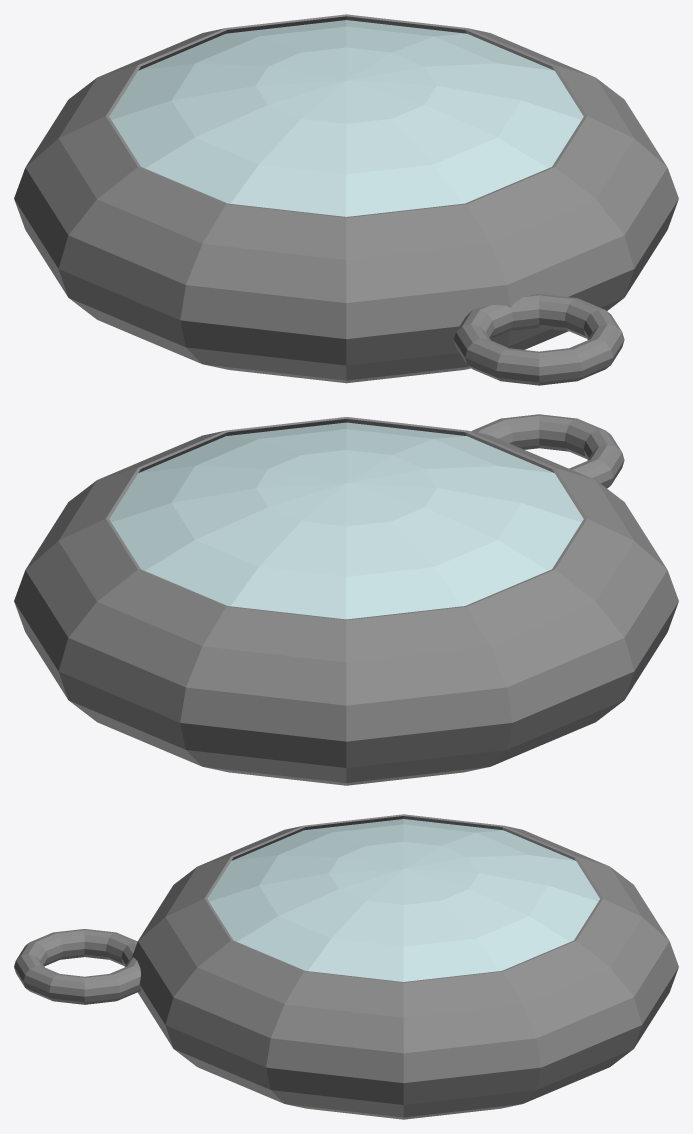
The model's file is Kompas.fbx.
3 renders of one model, top to bottom at view 1: azimuth 30°, elevation 25°; view 2: azimuth 150°, elevation 25°; view 3: azimuth 270°, elevation 25°, orthographic. The views are drawn at different scales.
Visible parts, largest first — view 1: Sphere, Sphere.001, Torus.001; view 2: Sphere, Sphere.001, Torus.001; view 3: Sphere, Sphere.001, Torus.001.
Boxes of the visible parts, left/top/right/bottom form: Sphere: left=14, top=14, right=678, bottom=383; Sphere.001: left=109, top=20, right=583, bottom=216; Torus.001: left=453, top=294, right=624, bottom=385; Sphere: left=14, top=417, right=678, bottom=785; Sphere.001: left=109, top=422, right=583, bottom=619; Torus.001: left=471, top=414, right=624, bottom=488; Sphere: left=132, top=814, right=678, bottom=1119; Sphere.001: left=207, top=819, right=599, bottom=981; Torus.001: left=14, top=929, right=140, bottom=1004.
Bounding box in the file's own units: 10 × 3.92 × 12.08.
